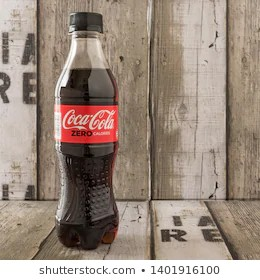coke-diet/zero-bottle-700ml: (52, 5, 124, 247)
